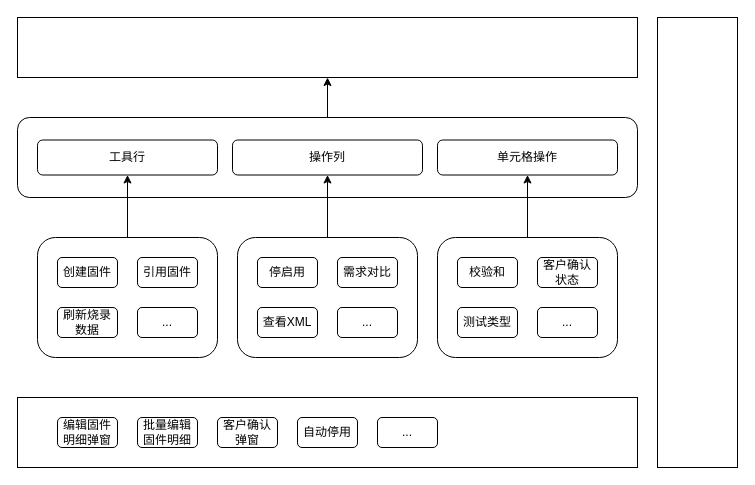
The diagram is 755 pixels wide and 485 high, and some of its shapes have lost their labels. The centre of each missing label's shape, as x and y in pixels:
"mobx" belongs at [697,242].
"固件明细" belongs at [327,47].
